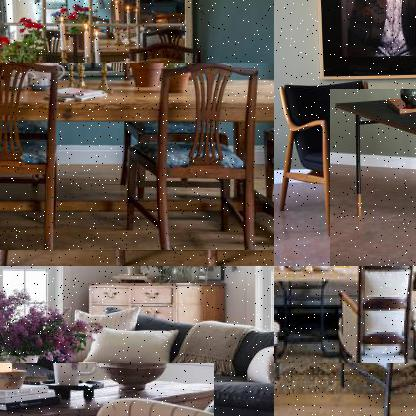table: (0, 63, 273, 253), (329, 89, 415, 265), (274, 266, 415, 365), (0, 363, 215, 415)
